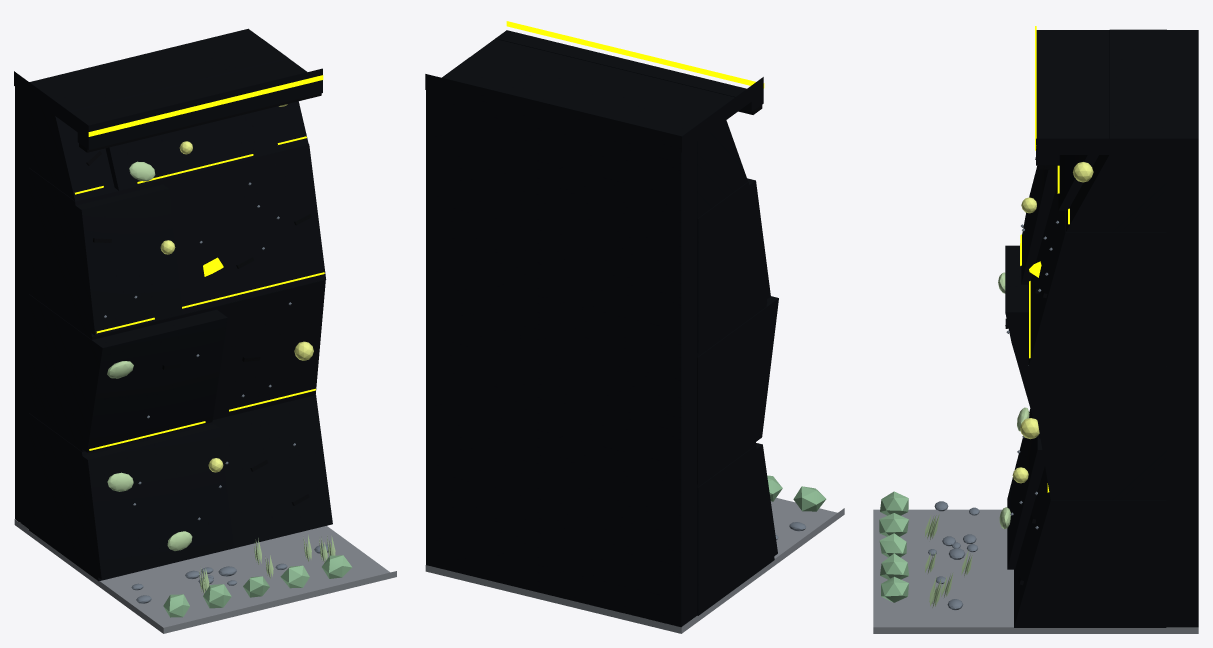
Rendered from tt_plinth_skirt_terrace_half.glb.
3 renders of one model, left to right at view 1: azimuth 30°, elevation 25°; view 2: azimuth 150°, elevation 25°; view 3: azimuth 270°, elevation 25°, orthographic. The views are drawn at different scales.
Visible parts, largest first — view 1: Course2_Facets, Course0_Facets, Course1_Facets, Course3_Facets, Base_Mat, Cap_Course, Skirt_Core, Moss_Edge, Sloper_Holds, Seam_Tape, Cap_Court_Line, Grass_Tufts (+4 smaller); view 2: Skirt_Core, Cap_Course, Course3_Facets, Course1_Facets, Course0_Facets, Course2_Facets, Base_Mat, Cap_Court_Line, Moss_Edge; view 3: Course0_Facets, Course2_Facets, Course1_Facets, Skirt_Core, Base_Mat, Cap_Course, Course3_Facets, Moss_Edge, Tennis_Ball_Holds, River_Stones, Grass_Tufts, Sloper_Holds.
Boxes of the visible parts, box(x1,y1,x2,y2) form: Course2_Facets: box(29, 144, 326, 336); Course0_Facets: box(29, 395, 332, 581); Course1_Facets: box(28, 279, 325, 452); Course3_Facets: box(29, 39, 308, 201); Base_Mat: box(14, 519, 396, 633); Cap_Course: box(14, 28, 322, 149); Skirt_Core: box(15, 87, 28, 528); Moss_Edge: box(163, 555, 352, 617); Sloper_Holds: box(107, 161, 192, 550); Seam_Tape: box(75, 136, 324, 450); Cap_Court_Line: box(88, 75, 323, 136); Grass_Tufts: box(199, 535, 335, 593); Skirt_Core: box(426, 89, 697, 627); Cap_Course: box(425, 30, 763, 152); Course3_Facets: box(442, 57, 747, 219); Course1_Facets: box(697, 296, 778, 488); Course0_Facets: box(697, 443, 777, 615); Course2_Facets: box(697, 178, 770, 353); Base_Mat: box(425, 498, 844, 633); Cap_Court_Line: box(506, 21, 764, 88); Moss_Edge: box(767, 475, 826, 511); Course0_Facets: box(1007, 409, 1166, 627); Course2_Facets: box(1021, 165, 1166, 366); Course1_Facets: box(1005, 245, 1166, 500); Skirt_Core: box(1166, 155, 1198, 627); Base_Mat: box(873, 509, 1198, 633); Cap_Course: box(1036, 30, 1198, 165); Course3_Facets: box(1058, 29, 1166, 232); Moss_Edge: box(879, 491, 908, 602); Tennis_Ball_Holds: box(1012, 162, 1093, 483); River_Stones: box(928, 501, 979, 610); Grass_Tufts: box(924, 514, 972, 607); Sloper_Holds: box(998, 272, 1029, 529).
Size of what is drawn, in the model's own units: 2 by 3.7 by 2.2.
Materials: 8 (3 with a texture image).
